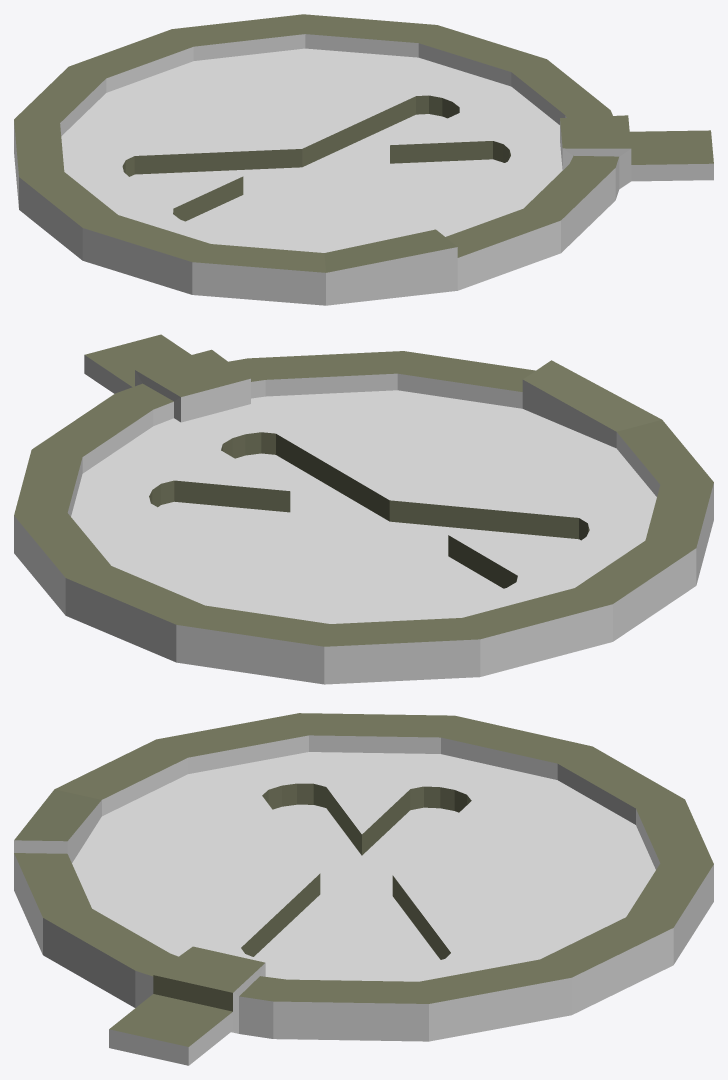
The model's file is Grate2.fbx.
3 views of the same model, one above another, from view 1: azimuth 30°, elevation 25°; view 2: azimuth 150°, elevation 25°; view 3: azimuth 270°, elevation 25° (orthographic). The views are drawn at different scales.
Visible parts, largest first — view 1: Circle; view 2: Circle; view 3: Circle.
Part boxes in pixels (x1,y1,x2,y2): Circle: (14,14,713,305); Circle: (14,334,713,684); Circle: (14,713,713,1065).
Bounding box in the file's own units: 59.26 × 4.29 × 54.13.
